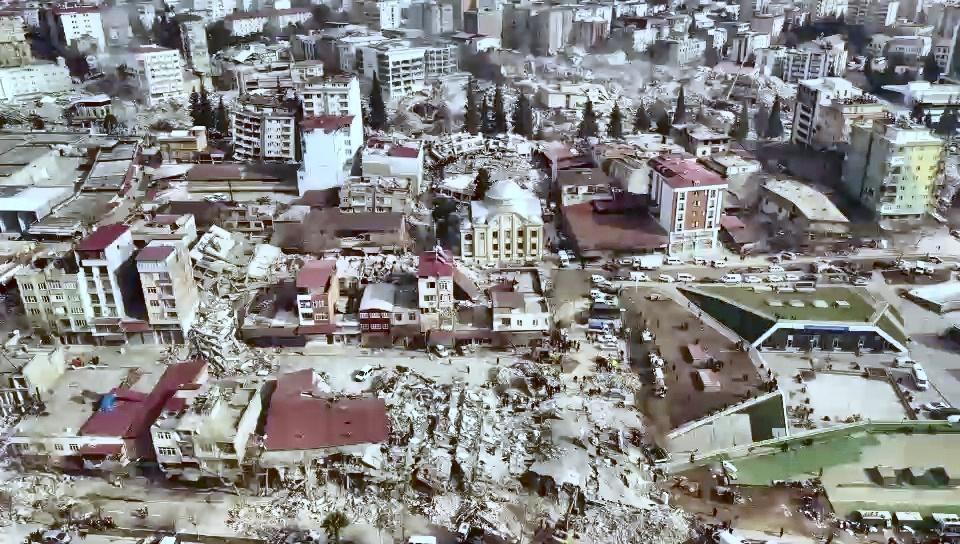kapali: (203, 502, 328, 543), (140, 353, 300, 382), (465, 357, 568, 390)
